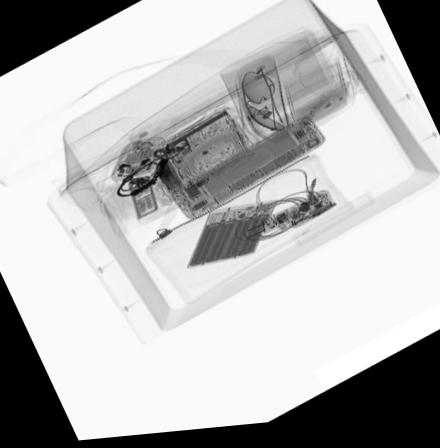Powerbank: (182, 203, 282, 274)
